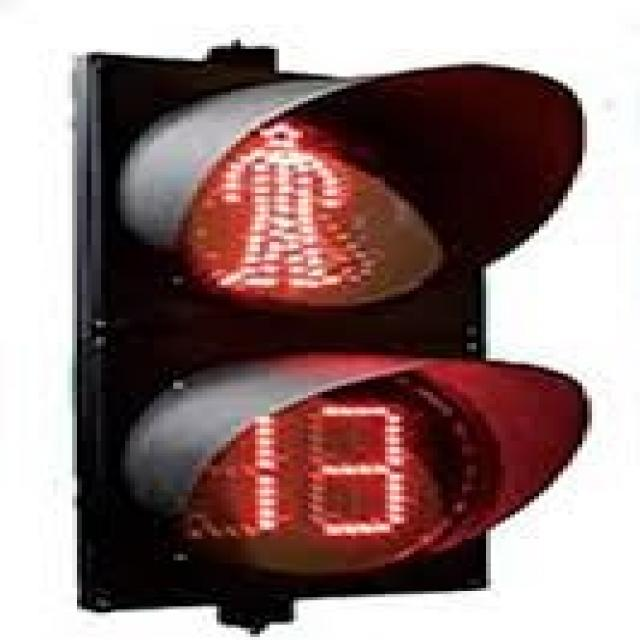Not go: (149, 74, 528, 608), (184, 104, 469, 334)
